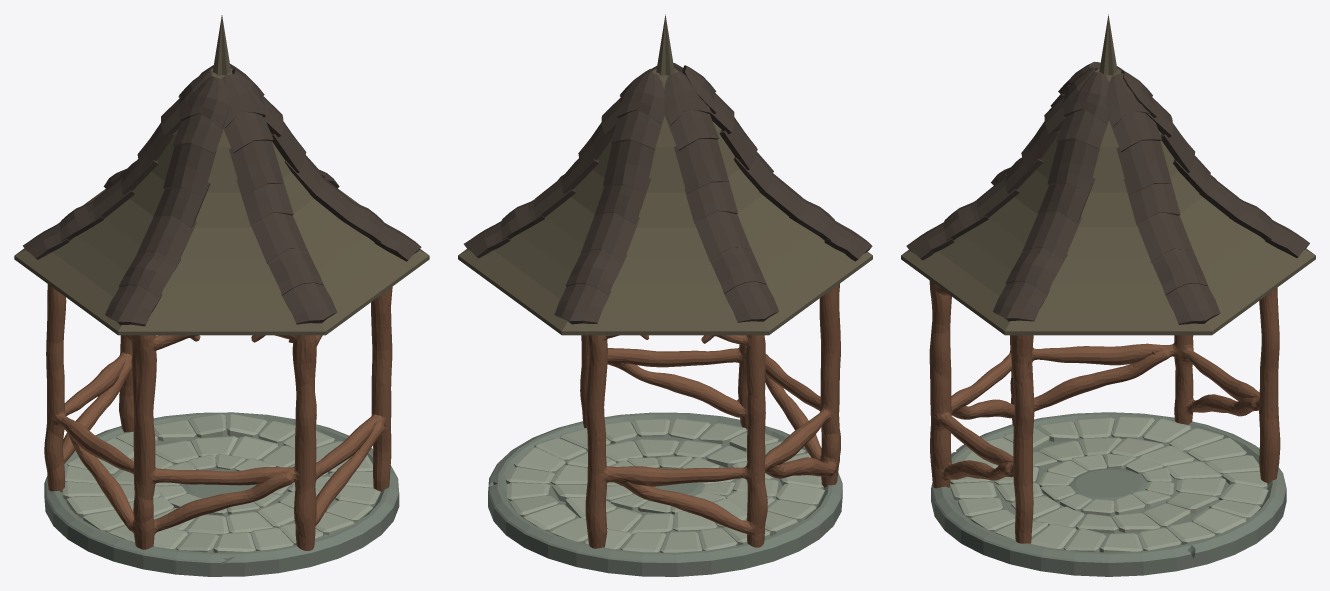
Rendered from Gazebo.fbx.
3 views of the same model, side by side, from view 1: azimuth 30°, elevation 25°; view 2: azimuth 150°, elevation 25°; view 3: azimuth 270°, elevation 25° (orthographic).
Parts seen in each view (by area): view 1: Plane.022; view 2: Plane.022; view 3: Plane.022.
Part boxes in pixels (box(x1,y1,x2,y2)): Plane.022: box(14, 15, 429, 576); Plane.022: box(458, 14, 872, 576); Plane.022: box(901, 14, 1315, 576).
Size of the model in its own units: 329 by 493 by 380.
